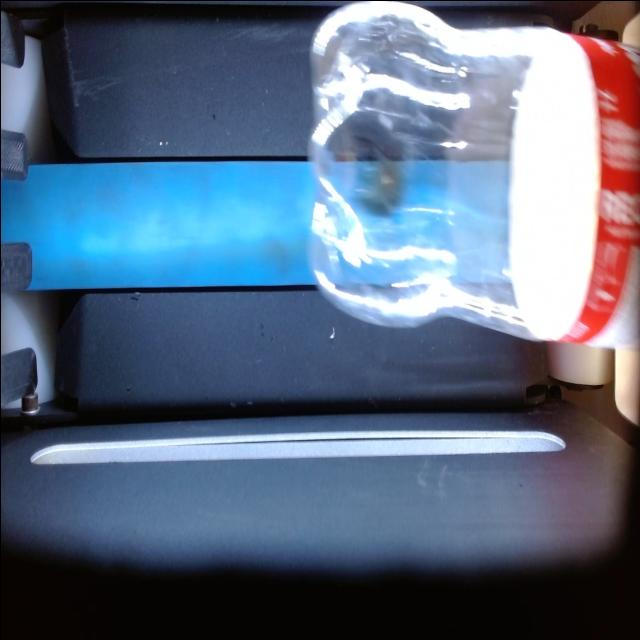bottom: (309, 2, 530, 335)
label: (509, 31, 640, 347)
